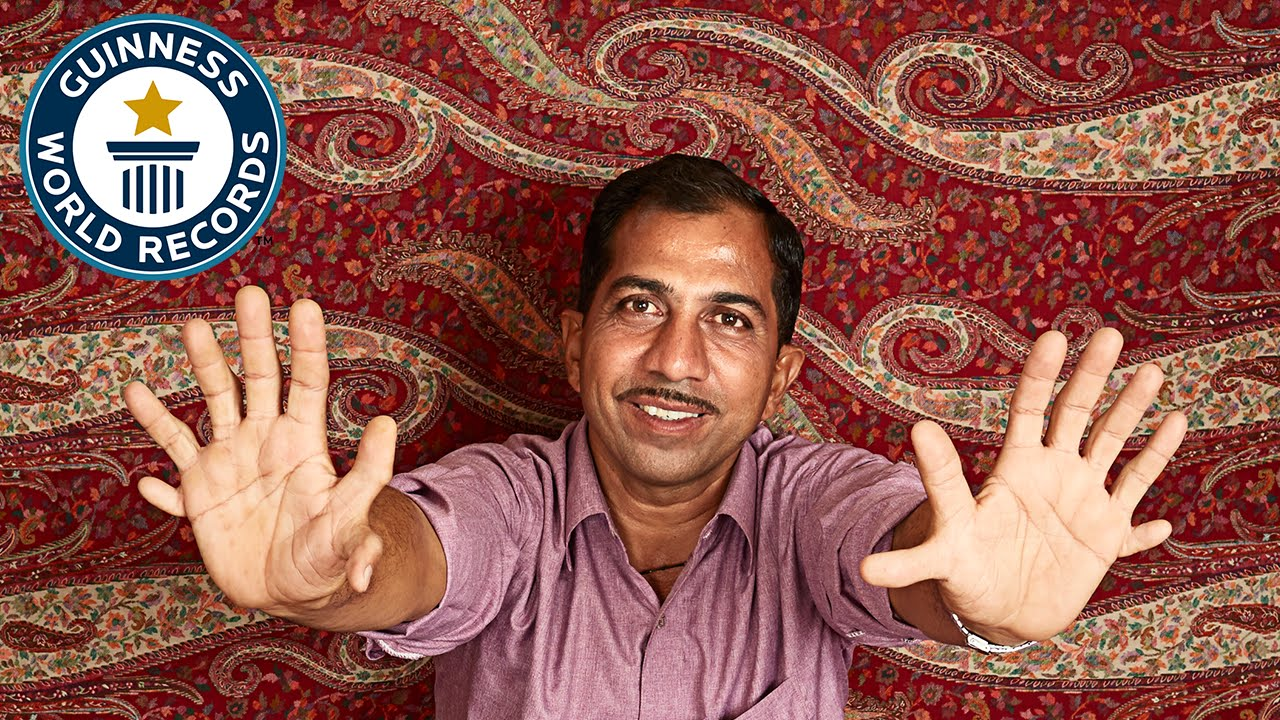finger: (1045, 325, 1123, 447), (999, 324, 1068, 453), (1079, 362, 1164, 465), (288, 300, 346, 449), (1105, 409, 1192, 506), (233, 282, 287, 418), (121, 378, 203, 466), (187, 315, 248, 426), (137, 477, 197, 515)
